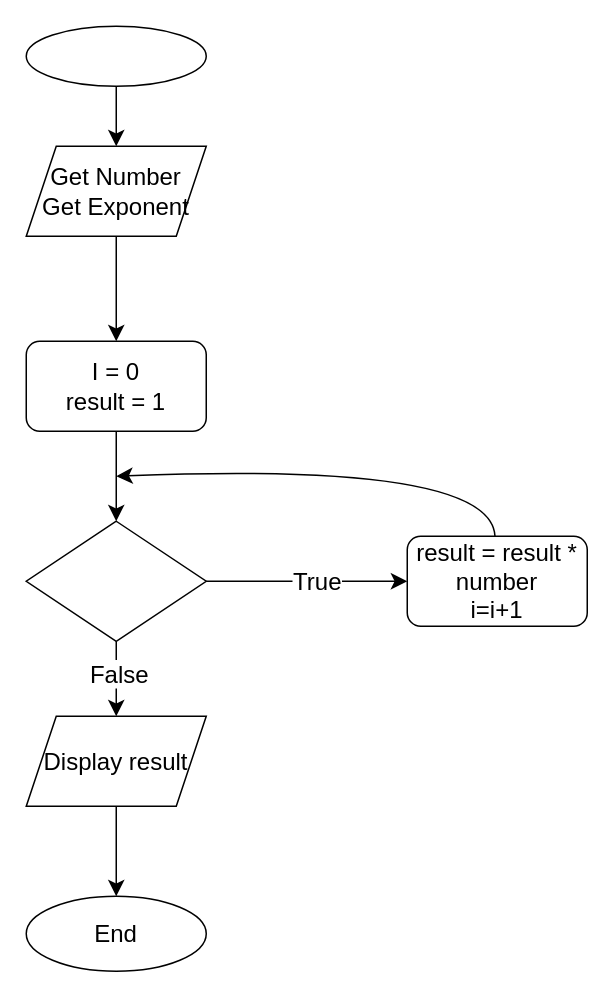
The diagram is 614 pixels wide and 998 high, and some of its shapes have lost their labels. Here are the shapes that lost their labels. From the top down, the box of each, then its label:
(25, 25, 206, 86): Start
(25, 520, 206, 641): i < exponent?
